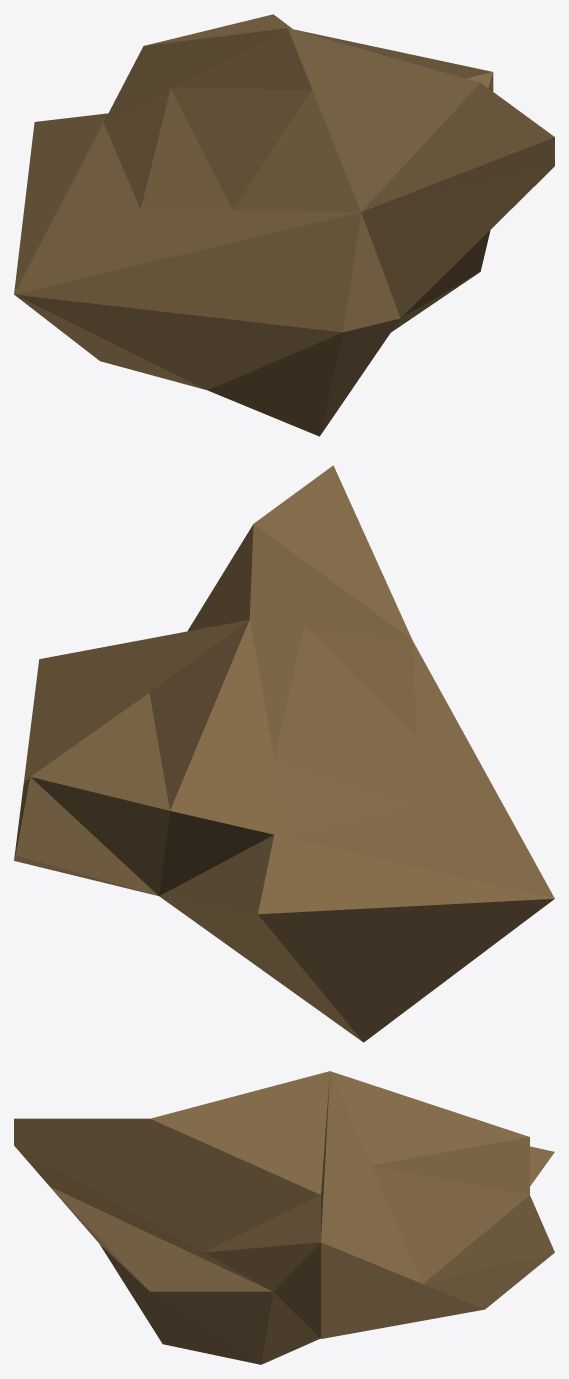
The model's file is Asteroid 1.fbx.
3 views of the same model, one above another, from view 1: azimuth 30°, elevation 25°; view 2: azimuth 150°, elevation 25°; view 3: azimuth 270°, elevation 25° (orthographic). The views are drawn at different scales.
Parts seen in each view (by area): view 1: Asteroid_1_1; view 2: Asteroid_1_1; view 3: Asteroid_1_1.
Boxes of the visible parts, x1,y1,x2,y2 form: Asteroid_1_1: (14,14,554,436); Asteroid_1_1: (14,465,554,1042); Asteroid_1_1: (14,1071,554,1364).
Size of the model in its own units: 907 by 592 by 968.
